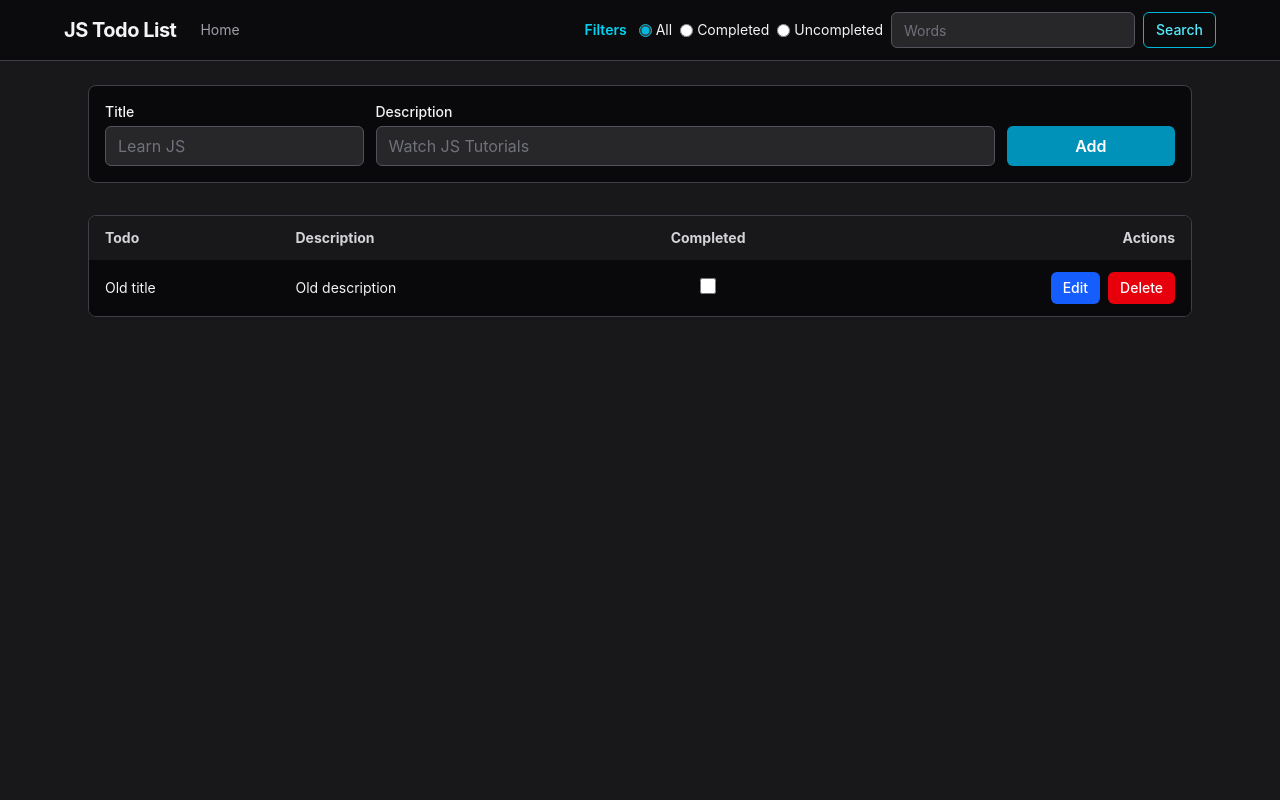
Test: US6 - Edit Existing Tasks › opens edit modal with task data when Edit is clicked
This screenshot has width=1280, height=800.
Expected: the text "Old title" is shown, [105, 279, 156, 296]
Click the button "Edit": (1075, 288) [1051, 272, 1100, 304]
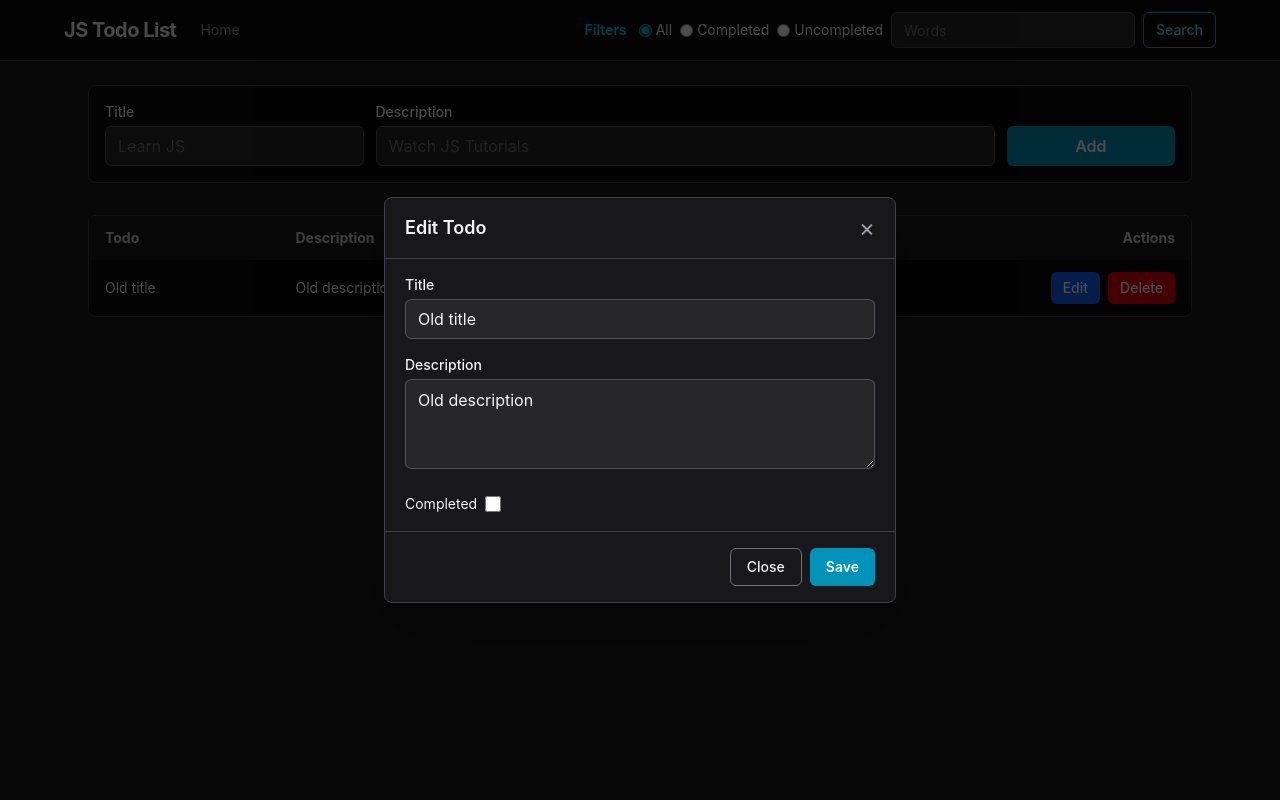
Now the heading "Edit Todo" is shown, box [405, 214, 486, 242]
Now the field showing "Old title" is shown, box [405, 299, 875, 339]
Now the text box showing "Old description" is shown, box [405, 379, 875, 469]
